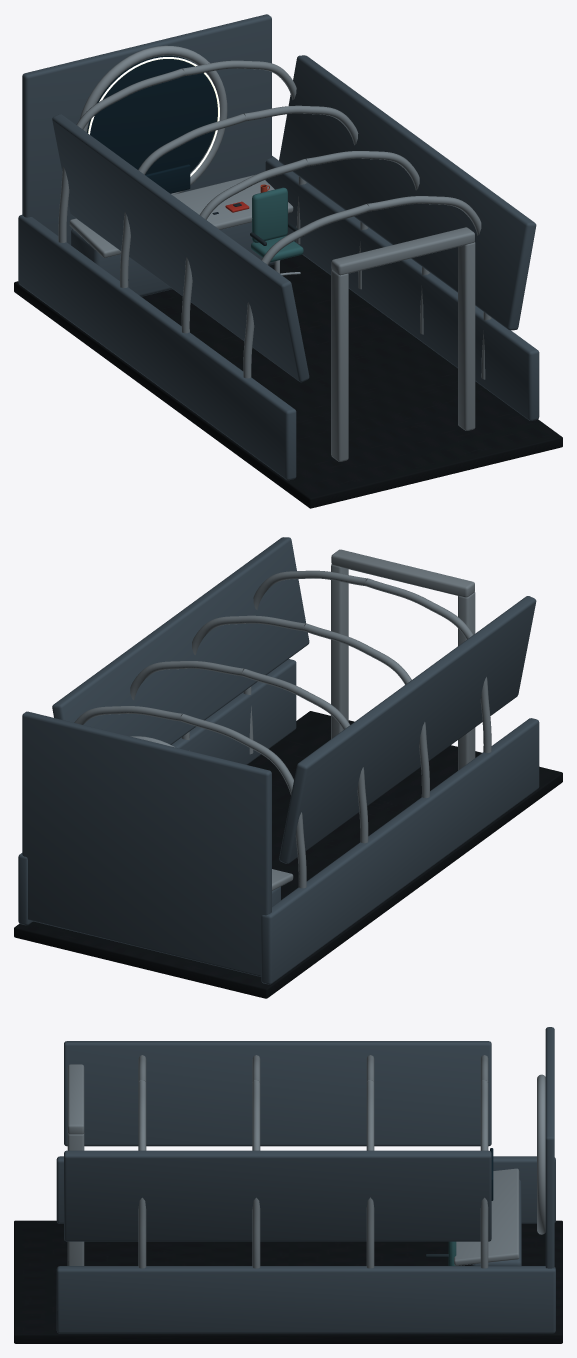
File: ship-interior.glb
3 views of the same model, one above another, from view 1: azimuth 30°, elevation 25°; view 2: azimuth 150°, elevation 25°; view 3: azimuth 270°, elevation 25° (orthographic). The views are drawn at different scales.
Visible parts, largest first — view 1: ShipDeck, ShipUpperWall1, ShipUpperWall-1, ShipLowerWall-1, ShipNose, ShipLowerWall1, FrontWindowAperture, ShipEntryPost-1, ShipEntryPost1, ShipControlDesk, RoundShipWindow, ShipEntryHeader (+13 smaller); view 2: ShipNose, ShipUpperWall-1, ShipLowerWall-1, ShipUpperWall1, ShipDeck, ShipLowerWall1, ShipEntryHeader, ShipEntryPost1, ArchedShipRib-12.4, ArchedShipRib-10.8, ArchedShipRib-1-2.4, ArchedShipRib-1-0.8 (+5 smaller); view 3: ShipUpperWall-1, ShipUpperWall1, ShipLowerWall1, ShipDeck, ShipControlDesk, ShipNose, ShipLowerWall-1, RoundShipWindow, ShipEntryHeader, ArchedShipRib1-0.8, ArchedShipRib10.8, ArchedShipRib1-2.4 (+3 smaller).
Part boxes in pixels (x1=…): ShipDeck: x1=14, y1=254, x2=562, y2=508; ShipUpperWall1: x1=279, y1=55, x2=536, y2=330; ShipUpperWall-1: x1=52, y1=114, x2=309, y2=382; ShipLowerWall-1: x1=18, y1=215, x2=296, y2=480; ShipNose: x1=22, y1=14, x2=271, y2=244; ShipLowerWall1: x1=265, y1=156, x2=539, y2=420; FrontWindowAperture: x1=87, y1=55, x2=217, y2=174; ShipEntryPost-1: x1=331, y1=270, x2=348, y2=461; ShipEntryPost1: x1=458, y1=242, x2=475, y2=430; ShipControlDesk: x1=69, y1=174, x2=293, y2=257; RoundShipWindow: x1=79, y1=45, x2=227, y2=194; ShipEntryHeader: x1=331, y1=227, x2=474, y2=275; ShipNose: x1=22, y1=711, x2=271, y2=976; ShipUpperWall-1: x1=279, y1=596, x2=536, y2=863; ShipLowerWall-1: x1=261, y1=718, x2=539, y2=984; ShipUpperWall1: x1=52, y1=537, x2=309, y2=744; ShipDeck: x1=14, y1=711, x2=562, y2=998; ShipLowerWall1: x1=18, y1=659, x2=296, y2=925; ShipEntryHeader: x1=331, y1=549, x2=474, y2=597; ShipEntryPost1: x1=331, y1=564, x2=348, y2=738; ArchedShipRib-12.4: x1=180, y1=714, x2=306, y2=888; ArchedShipRib-10.8: x1=242, y1=669, x2=368, y2=843; ArchedShipRib-1-2.4: x1=365, y1=578, x2=491, y2=752; ArchedShipRib-1-0.8: x1=303, y1=623, x2=429, y2=797; ShipUpperWall-1: x1=64, y1=1041, x2=491, y2=1146; ShipUpperWall1: x1=64, y1=1150, x2=491, y2=1241; ShipLowerWall1: x1=56, y1=1266, x2=555, y2=1333; ShipDeck: x1=14, y1=1220, x2=562, y2=1343; ShipControlDesk: x1=454, y1=1168, x2=519, y2=1265; ShipNose: x1=545, y1=1027, x2=554, y2=1268; ShipLowerWall-1: x1=56, y1=1156, x2=555, y2=1223; RoundShipWindow: x1=537, y1=1074, x2=545, y2=1234; ShipEntryHeader: x1=67, y1=1064, x2=84, y2=1134; ArchedShipRib1-0.8: x1=252, y1=1080, x2=260, y2=1268; ArchedShipRib10.8: x1=366, y1=1080, x2=374, y2=1268; ArchedShipRib1-2.4: x1=138, y1=1080, x2=146, y2=1268.
Bounding box in the file's own units: 3.83 × 3.2 × 7.7.
Materials: 13 (1 with a texture image).
